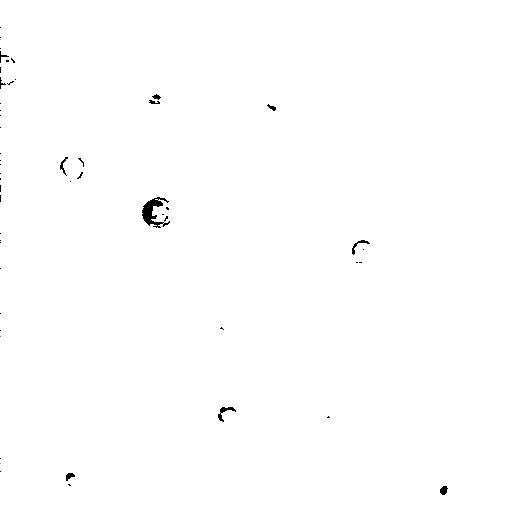micro-algae: (475, 170, 511, 228), (424, 471, 461, 507), (251, 91, 289, 121), (139, 197, 174, 228), (59, 152, 87, 183), (59, 465, 83, 491), (0, 53, 19, 85), (350, 240, 373, 264), (217, 404, 239, 424)
